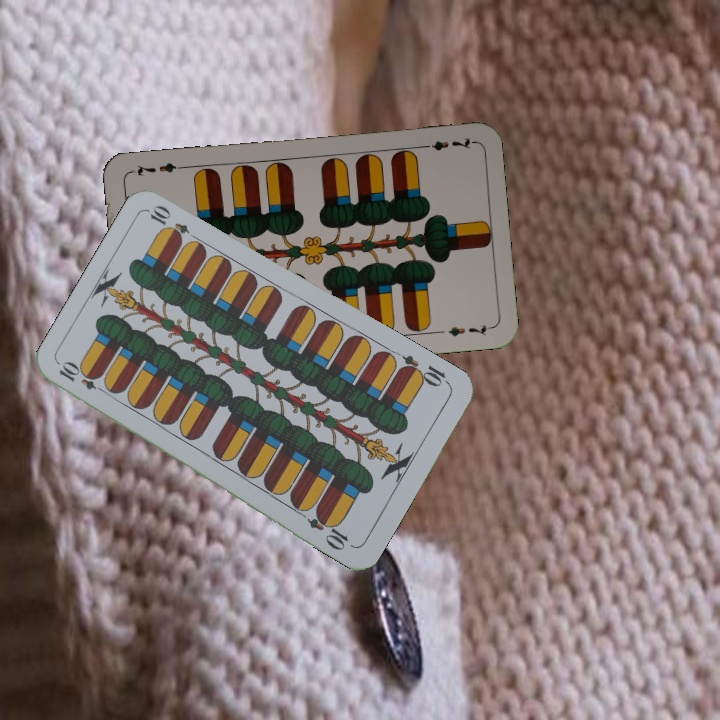E10: (395, 351, 452, 390), (55, 359, 111, 397)
E7: (416, 133, 476, 154)
